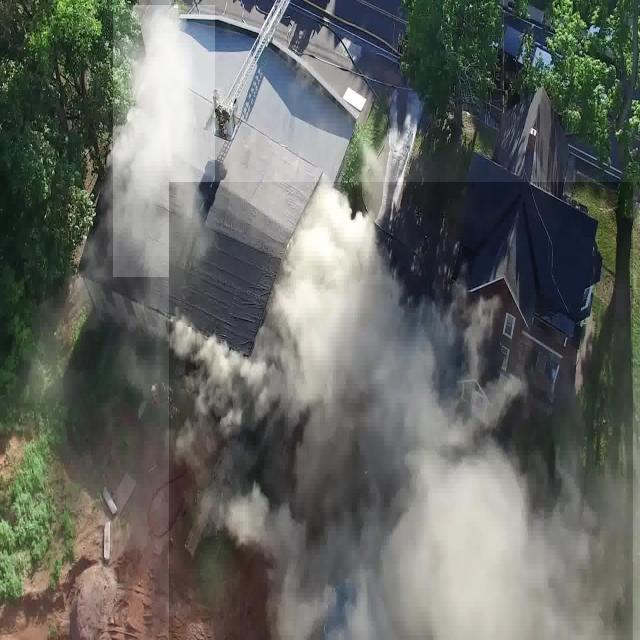Smoke: (169, 182, 633, 640), (113, 5, 215, 277)
